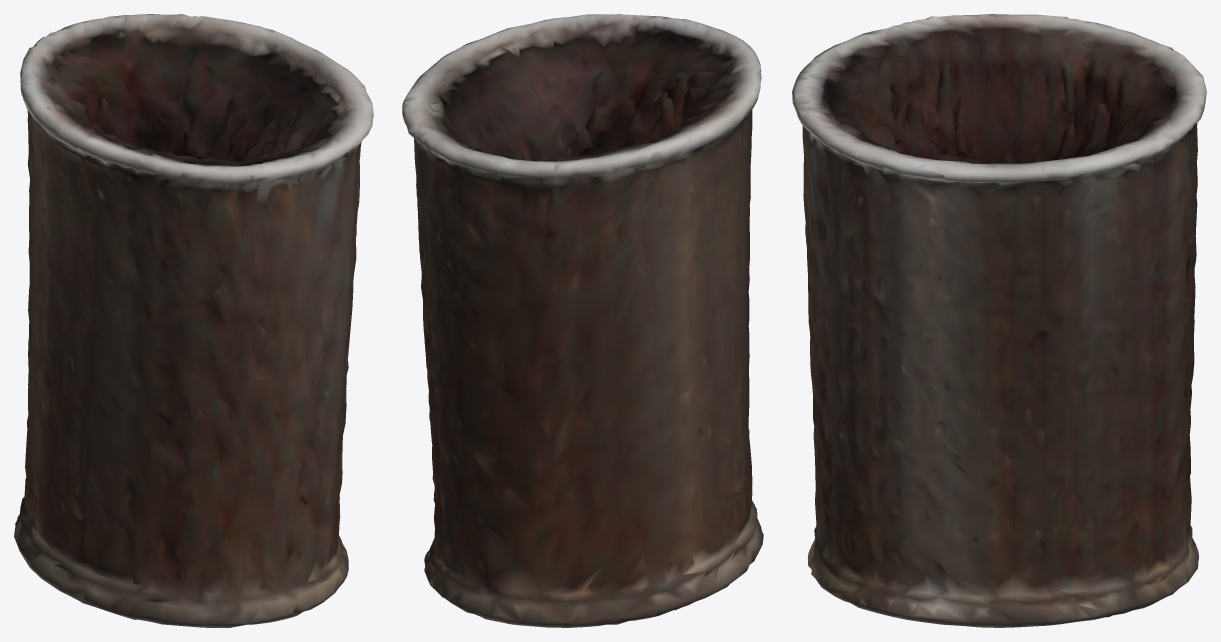
3 views of the same model, side by side, from view 1: azimuth 30°, elevation 25°; view 2: azimuth 150°, elevation 25°; view 3: azimuth 270°, elevation 25° (orthographic). The views are drawn at different scales.
Visible parts, largest first — view 1: geometry_0; view 2: geometry_0; view 3: geometry_0.
Boxes of the visible parts, left/top/right/bottom form: geometry_0: left=14, top=14, right=373, bottom=627; geometry_0: left=402, top=14, right=763, bottom=627; geometry_0: left=792, top=14, right=1206, bottom=627.
Bounding box in the file's own units: 0.2114 × 0.32 × 0.2463.
